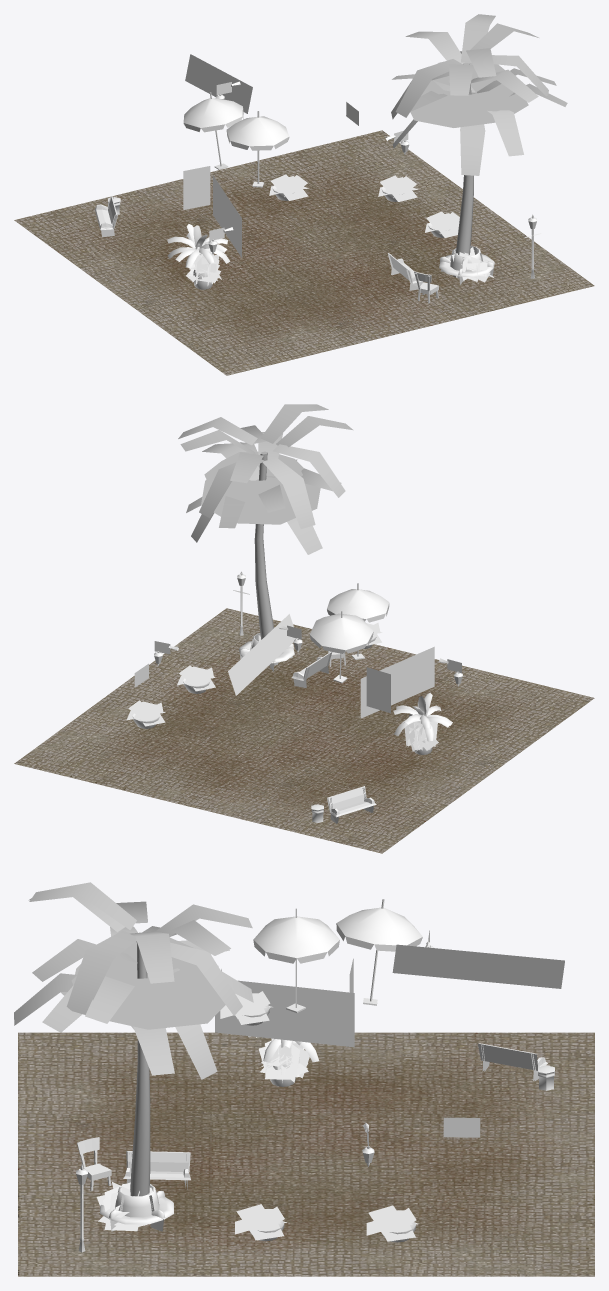
The model's file is propsonly_9.gltf.
3 views of the same model, one above another, from view 1: azimuth 30°, elevation 25°; view 2: azimuth 150°, elevation 25°; view 3: azimuth 270°, elevation 25° (orthographic). The views are drawn at different scales.
Parts seen in each view (by area): view 1: ground.005, prop_tree9, prop_sunshade9, prop_sunshade9.001, prop_lights9, prop_treepot_tree9, prop_lights9.001, prop_sign9, prop_bench9, prop_pot_flower9, prop_pot_flower9.002, prop_treepot_bush9 (+4 smaller); view 2: ground.005, prop_tree9, prop_lights9.001, prop_sunshade9.001, prop_lights9, prop_sunshade9, prop_treepot_tree9, prop_bench9.002, prop_sign9, prop_treepot_bush9, prop_pot_flower9.001, prop_pot_flower9 (+1 smaller); view 3: ground.005, prop_tree9, prop_lights9.001, prop_lights9, prop_sunshade9, prop_sunshade9.001, prop_bench9, prop_treepot_bush9, prop_bench9.001, prop_pot_flower9, prop_pot_flower9.001, prop_bench9.002 (+5 smaller).
Part boxes in pixels (bbox=[...]): ground.005: bbox=[14, 130, 594, 375]; prop_tree9: bbox=[391, 14, 567, 278]; prop_sunshade9: bbox=[226, 111, 289, 187]; prop_sunshade9.001: bbox=[183, 92, 243, 169]; prop_lights9: bbox=[185, 54, 252, 113]; prop_treepot_tree9: bbox=[167, 224, 230, 268]; prop_lights9.001: bbox=[213, 175, 241, 257]; prop_sign9: bbox=[183, 166, 210, 209]; prop_bench9: bbox=[439, 245, 494, 284]; prop_pot_flower9: bbox=[378, 175, 417, 201]; prop_pot_flower9.002: bbox=[269, 174, 309, 200]; prop_treepot_bush9: bbox=[186, 252, 221, 285]; ground.005: bbox=[14, 608, 594, 853]; prop_tree9: bbox=[178, 404, 353, 665]; prop_lights9.001: bbox=[360, 646, 434, 718]; prop_sunshade9.001: bbox=[309, 611, 373, 683]; prop_lights9: bbox=[228, 614, 296, 695]; prop_sunshade9: bbox=[327, 583, 389, 659]; prop_treepot_tree9: bbox=[393, 693, 452, 741]; prop_bench9.002: bbox=[327, 786, 376, 823]; prop_sign9: bbox=[366, 667, 390, 713]; prop_treepot_bush9: bbox=[404, 720, 438, 751]; prop_pot_flower9.001: bbox=[177, 665, 216, 691]; prop_pot_flower9: bbox=[126, 700, 165, 726]; ground.005: bbox=[18, 1032, 594, 1276]; prop_tree9: bbox=[14, 882, 253, 1196]; prop_lights9.001: bbox=[215, 980, 354, 1047]; prop_lights9: bbox=[392, 944, 564, 988]; prop_sunshade9: bbox=[253, 908, 339, 1012]; prop_sunshade9.001: bbox=[336, 899, 422, 1005]; prop_bench9: bbox=[100, 1182, 173, 1231]; prop_treepot_bush9: bbox=[258, 1038, 309, 1082]; prop_bench9.001: bbox=[123, 1151, 190, 1189]; prop_pot_flower9: bbox=[366, 1205, 418, 1241]; prop_pot_flower9.001: bbox=[235, 1204, 286, 1240]; prop_bench9.002: bbox=[478, 1043, 547, 1081].
Size of what is drawn, in the model's own units: 3.3 by 2.16 by 3.32.
